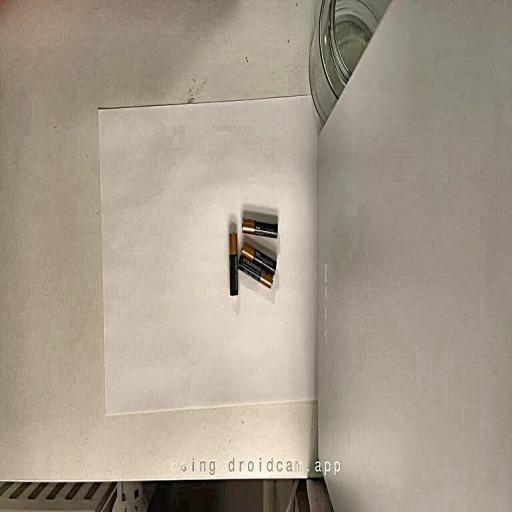DuracellAAA: (242, 241, 276, 274), (238, 256, 273, 288), (242, 218, 277, 238), (229, 231, 238, 295)
